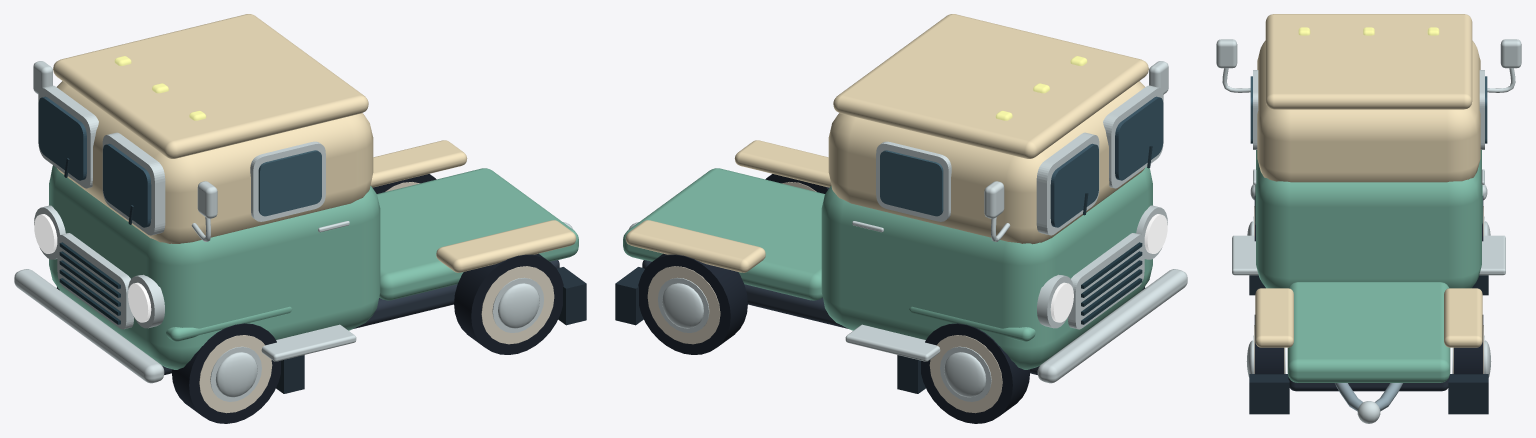
Rendered from truck-stage.glb.
3 renders of one model, left to right at view 1: azimuth 30°, elevation 25°; view 2: azimuth 150°, elevation 25°; view 3: azimuth 270°, elevation 25°, orthographic. The views are drawn at different scales.
Parts seen in each view (by area): view 1: pressed-panels, whitewall (×2); view 2: pressed-panels, whitewall (×2); view 3: pressed-panels, whitewall (×2).
Boxes of the visible parts, <box> form: pressed-panels: <box>14,14,586,393</box>; whitewall (×2): <box>172,253,563,423</box>; pressed-panels: <box>615,14,1187,393</box>; whitewall (×2): <box>638,253,1029,423</box>; pressed-panels: <box>1216,14,1521,423</box>; whitewall (×2): <box>1246,315,1491,377</box>.
Bounding box in the file's own units: 3.81 × 2.15 × 2.36.
